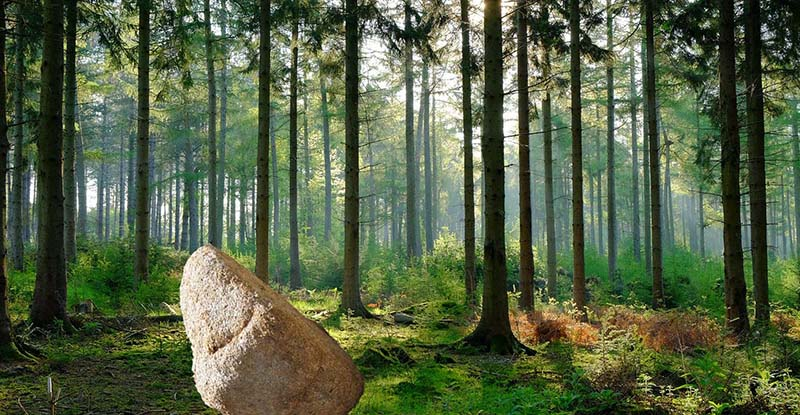Rocks: (167, 235, 370, 415)
